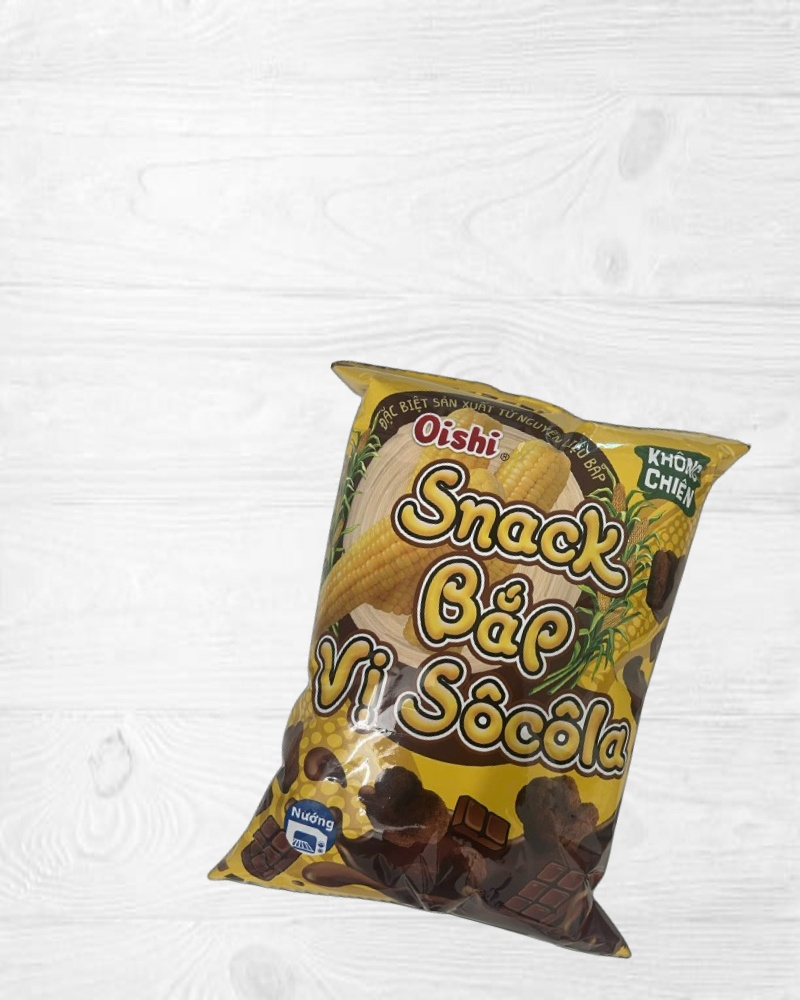Snack socola: (200, 339, 766, 979)
